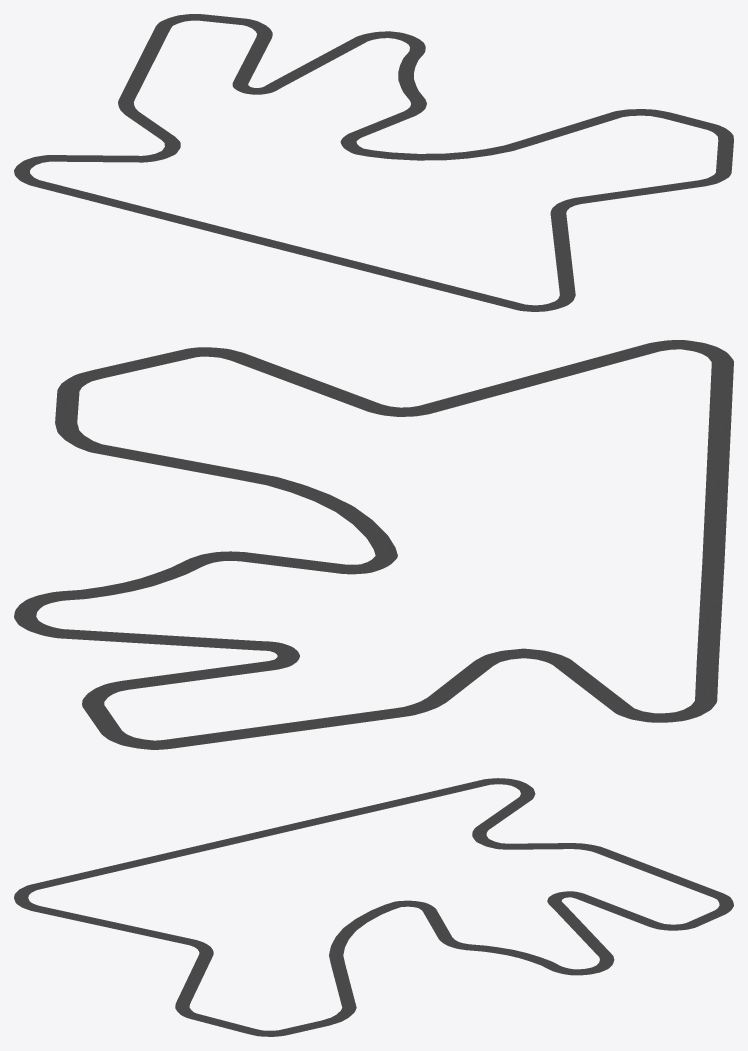
Rendered from track.dae.
The picture shows the model from 3 angles, top to bottom: view 1: azimuth 30°, elevation 25°; view 2: azimuth 150°, elevation 25°; view 3: azimuth 270°, elevation 25°; orthographic projection. The views are drawn at different scales.
Visible parts, largest first — view 1: road-node; view 2: road-node; view 3: road-node.
Part boxes in pixels (left/top/right/bottom): road-node: left=14, top=14, right=733, bottom=311; road-node: left=14, top=340, right=733, bottom=749; road-node: left=14, top=778, right=733, bottom=1036.
Size of the model in its own units: 64.04 by 75.32 by 0.
1 material, 1 textured.
